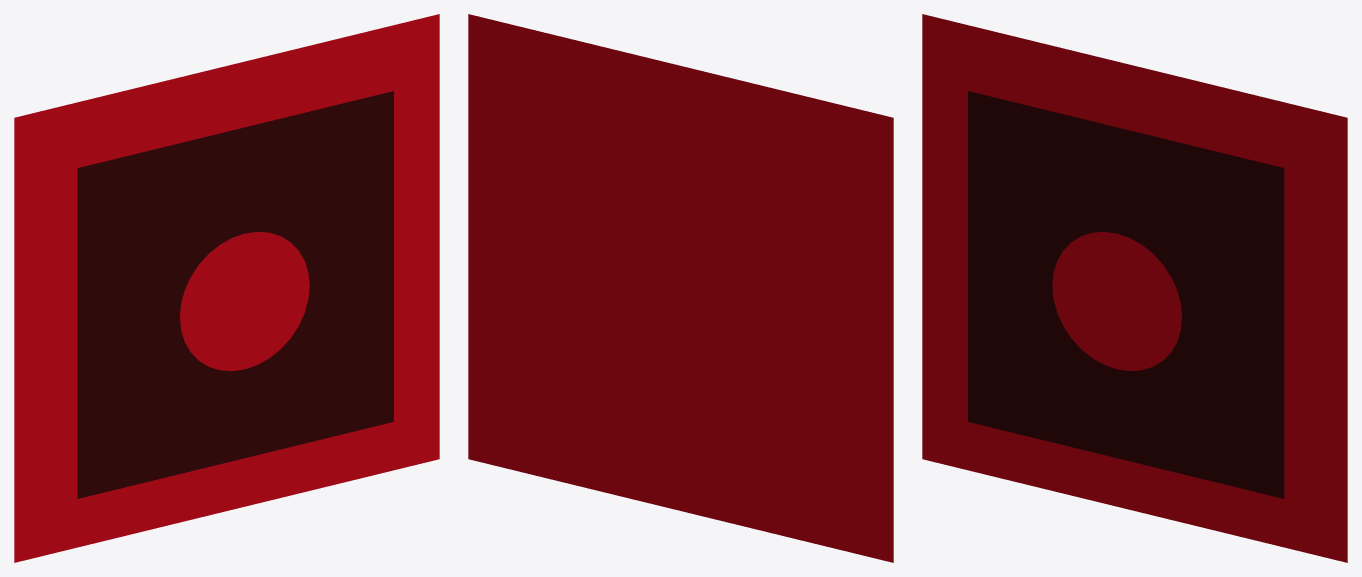
The model's file is enemy-defender-one.glb.
The picture shows the model from 3 angles, left to right: view 1: azimuth 30°, elevation 25°; view 2: azimuth 150°, elevation 25°; view 3: azimuth 330°, elevation 25°; orthographic projection.
Parts seen in each view (by area): view 1: EnemyDefenderOneHull, EnemyDefenderOneOutline, EnemyDefenderOneIndicator; view 2: EnemyDefenderOneOutline; view 3: EnemyDefenderOneHull, EnemyDefenderOneOutline, EnemyDefenderOneIndicator.
Boxes of the visible parts, <box> form: EnemyDefenderOneHull: <box>77,91,393,498</box>; EnemyDefenderOneOutline: <box>14,14,439,562</box>; EnemyDefenderOneIndicator: <box>180,231,309,371</box>; EnemyDefenderOneOutline: <box>468,14,893,562</box>; EnemyDefenderOneHull: <box>968,91,1284,498</box>; EnemyDefenderOneOutline: <box>922,14,1347,562</box>; EnemyDefenderOneIndicator: <box>1052,231,1181,371</box>.
Size of the model in its own units: 27.64 by 27.64 by 2.
